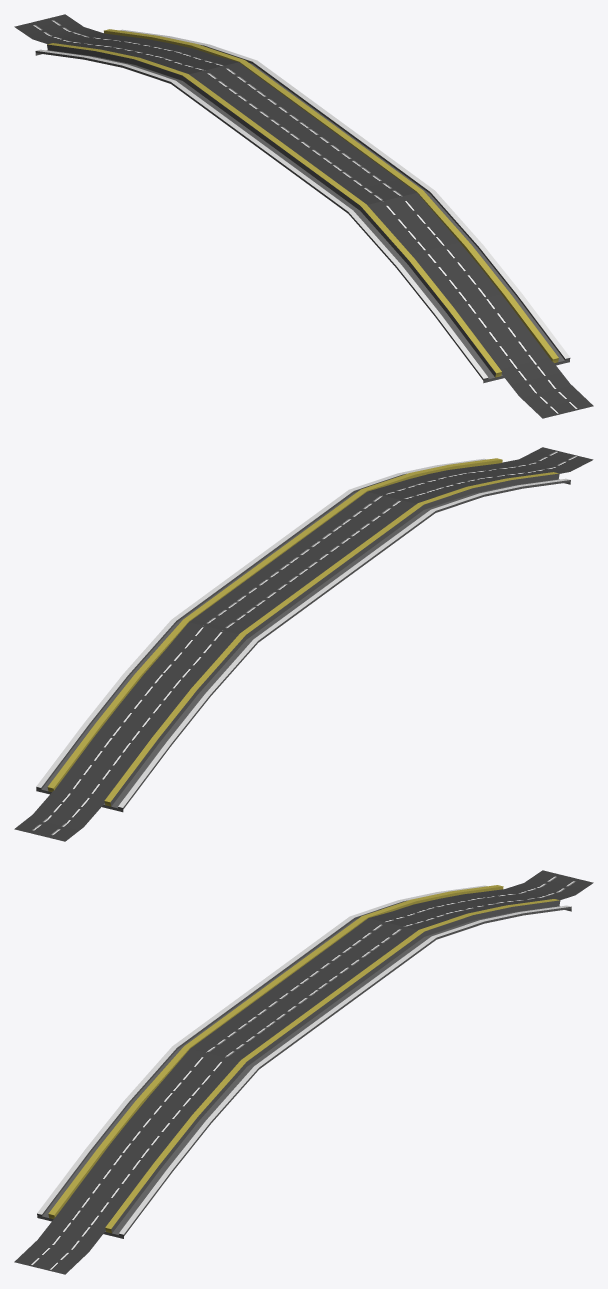
Rendered from B R Combine both.fbx.
3 views of the same model, one above another, from view 1: azimuth 30°, elevation 25°; view 2: azimuth 150°, elevation 25°; view 3: azimuth 330°, elevation 25° (orthographic).
Visible parts, largest first — view 1: pPlane8, pPlane3; view 2: pPlane8, pPlane3; view 3: pPlane8, pPlane3.
Boxes of the visible parts, x1,y1,x2,y2 form: pPlane8: (14, 14, 593, 418); pPlane3: (35, 29, 570, 383); pPlane8: (14, 447, 593, 841); pPlane3: (36, 458, 570, 812); pPlane8: (14, 870, 593, 1274); pPlane3: (37, 885, 571, 1238).
Bounding box in the file's own units: 16.02 × 15.07 × 169.
4 materials, 1 textured.
